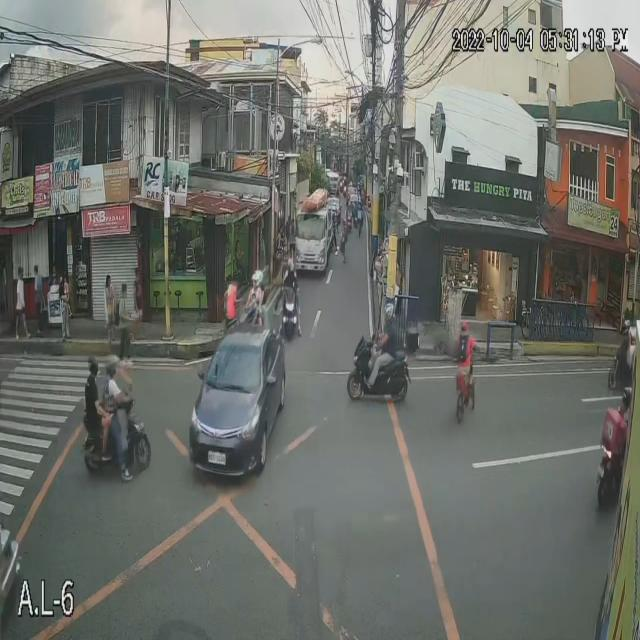Full-Faced: (246, 266, 264, 295), (84, 353, 100, 384), (104, 352, 121, 376), (619, 387, 634, 410), (382, 302, 396, 324), (284, 262, 296, 283), (623, 315, 631, 339)
